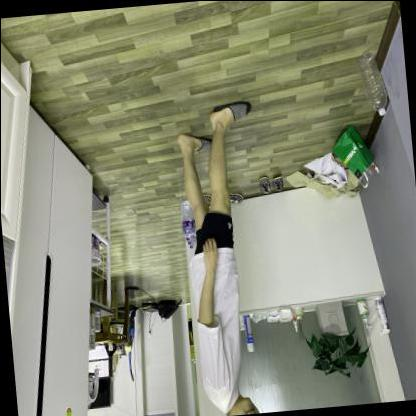no_safety-shoe: (201, 89, 259, 135), (170, 124, 215, 159)
